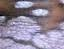plaque psoriasis: (0, 8, 64, 49), (12, 0, 33, 10), (31, 7, 49, 17), (59, 0, 64, 4)
